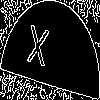X: (25, 24, 50, 76)
